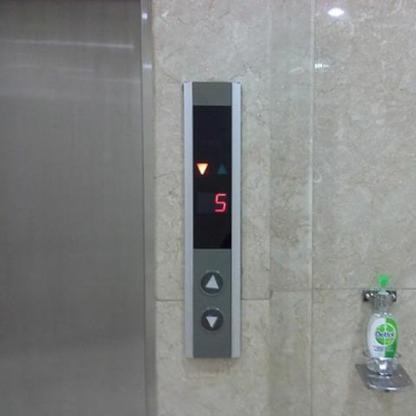down: (198, 306, 223, 331)
led: (191, 104, 230, 250)
up: (198, 268, 223, 296)
